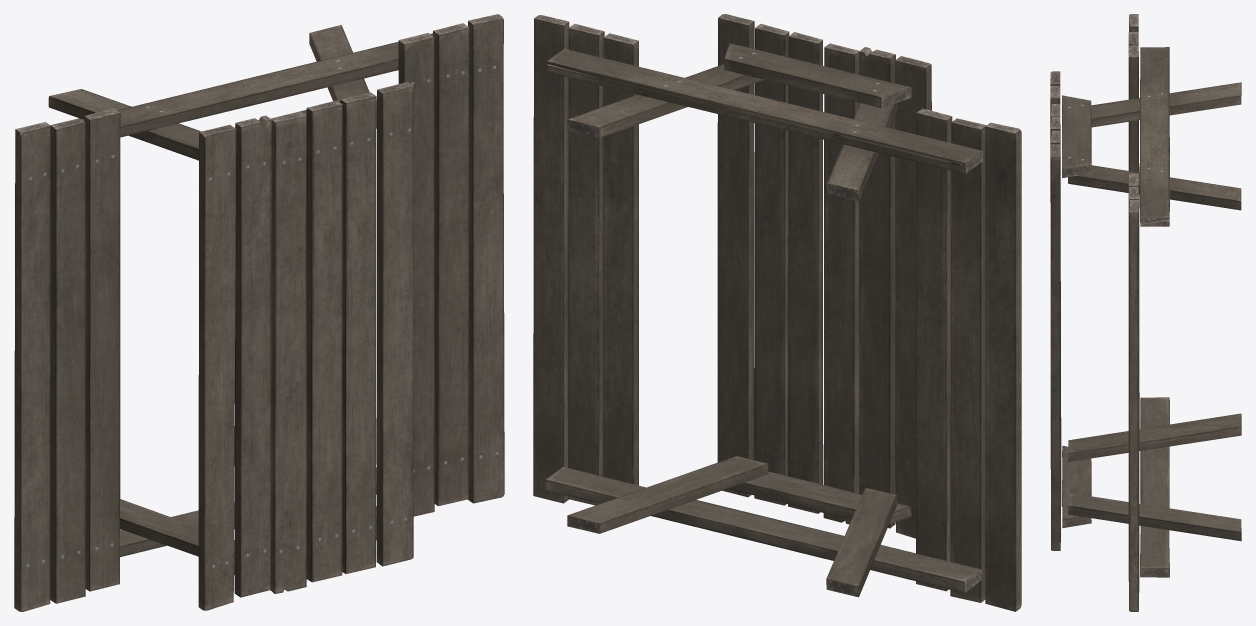
File: picnic_table.fbx
The picture shows the model from 3 angles, left to right: view 1: azimuth 30°, elevation 25°; view 2: azimuth 150°, elevation 25°; view 3: azimuth 270°, elevation 25°; orthographic projection. The views are drawn at different scales.
Parts seen in each view (by area): view 1: picnic table; view 2: picnic table; view 3: picnic table.
Part boxes in pixels (<box>): picnic table: <box>14,14,504,611</box>; picnic table: <box>533,14,1021,611</box>; picnic table: <box>1050,14,1241,611</box>.
Size of the model in its own units: 363 by 345 by 149.
